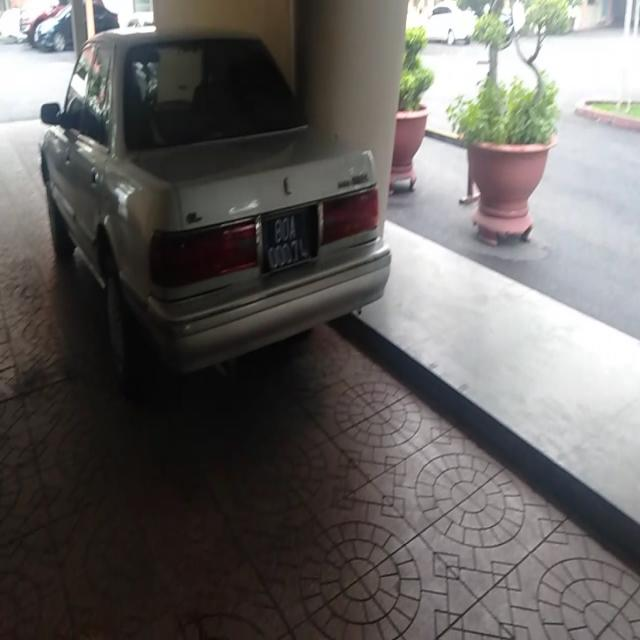bien_xanh: (259, 201, 318, 275)
